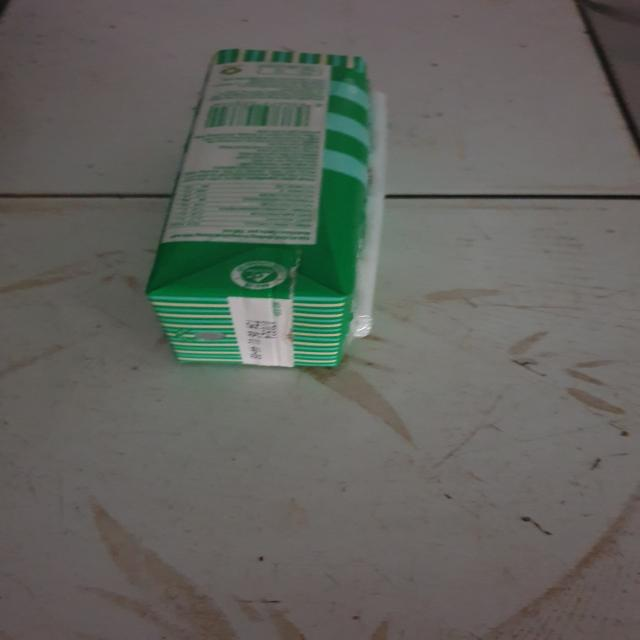Vina: (138, 44, 399, 374)
